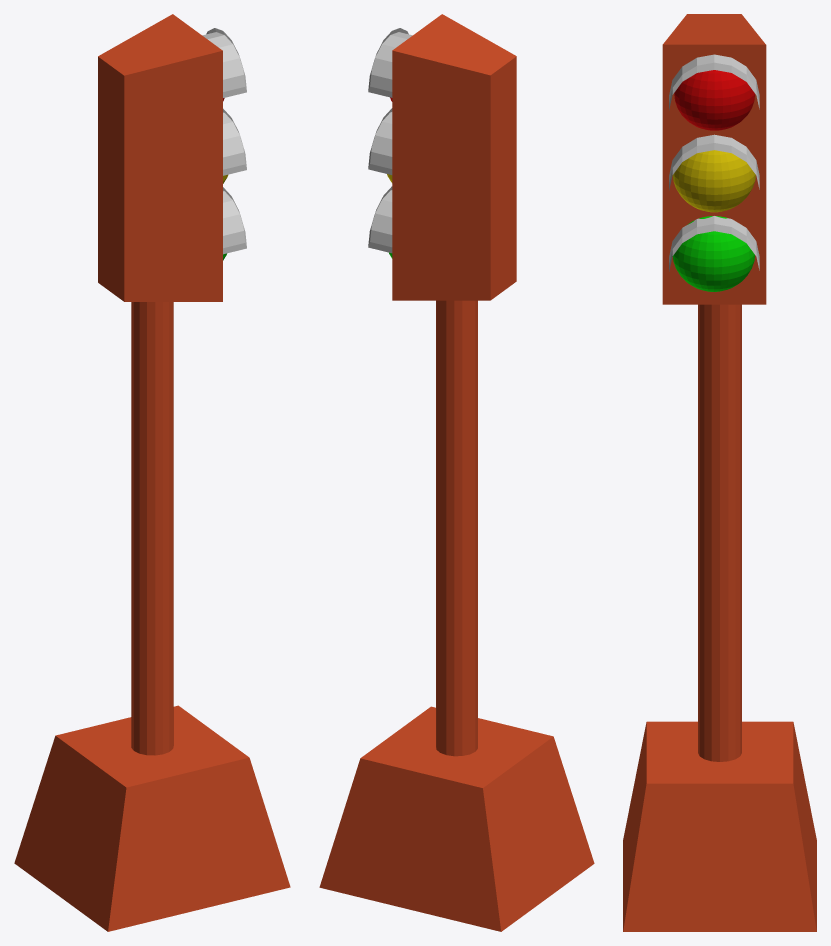
Rendered from stoplight.obj.
The picture shows the model from 3 angles, left to right: view 1: azimuth 30°, elevation 25°; view 2: azimuth 150°, elevation 25°; view 3: azimuth 270°, elevation 25°; orthographic projection. The views are drawn at different scales.
Parts seen in each view (by area): view 1: stoplight; view 2: stoplight; view 3: stoplight.
Part boxes in pixels (x1,y1,x2,y2): stoplight: (14, 14, 290, 931); stoplight: (319, 14, 594, 931); stoplight: (623, 14, 816, 931).
Size of the model in its own units: 2.97 by 12.96 by 2.64.
